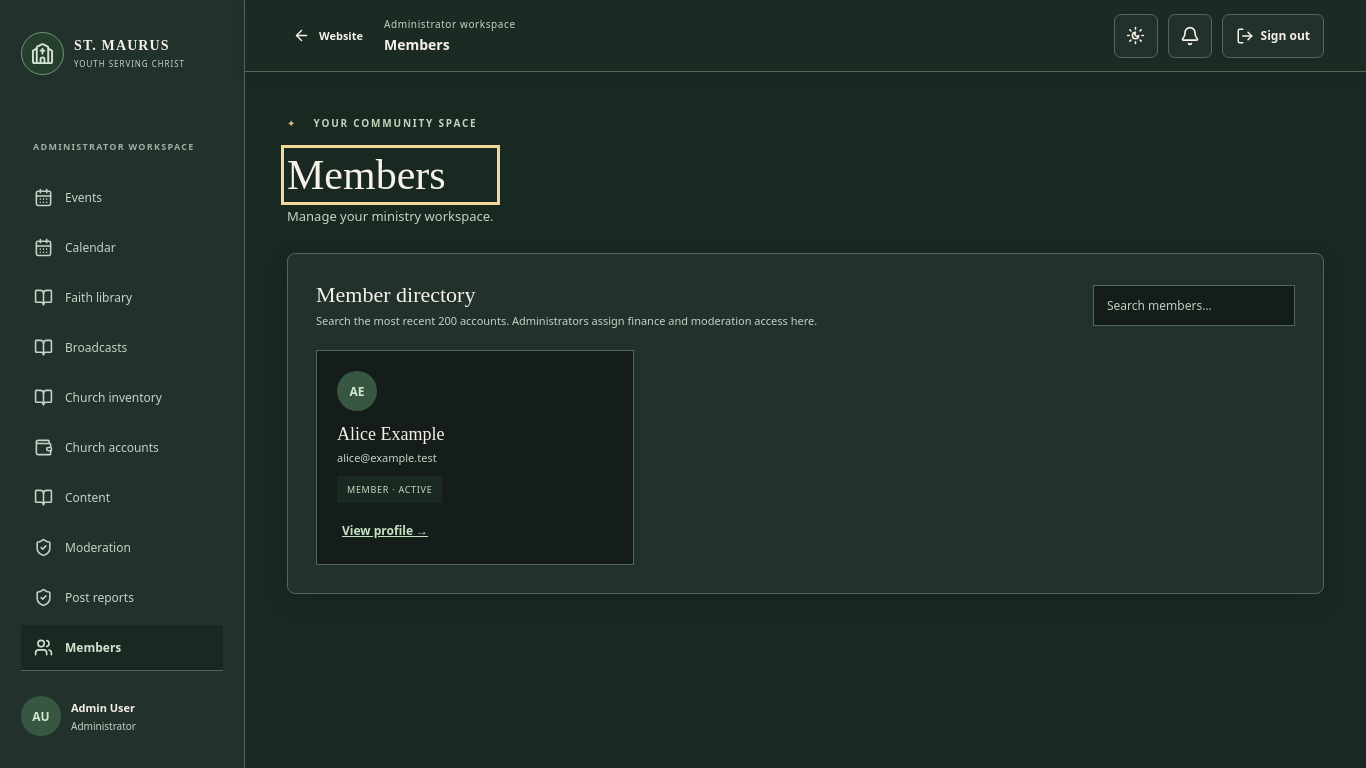
Test: role-aware dashboard navigation › lets an admin assign a restricted role with password confirmation
Earlier steps of the test are not shown.
(page scrolled)
Expected: the heading "Alice Example" is shown, [337,424,444,444]
Click the button "View profile →" at (385, 530), box [337,517,433,544]
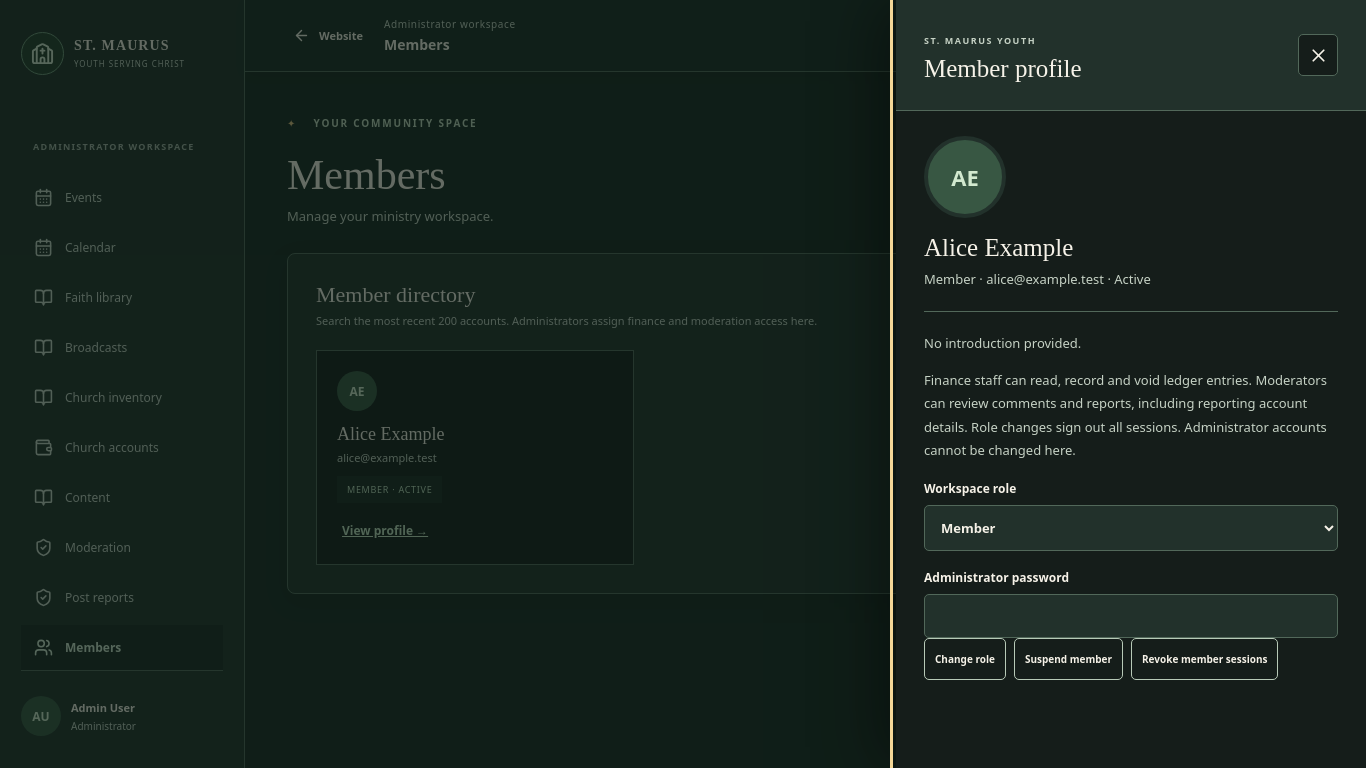
Now the dropdown labelled "Workspace role" is shown
Select "Finance staff" in the dropdown labelled "Workspace role" at (1131, 528), box [924,505,1338,551]
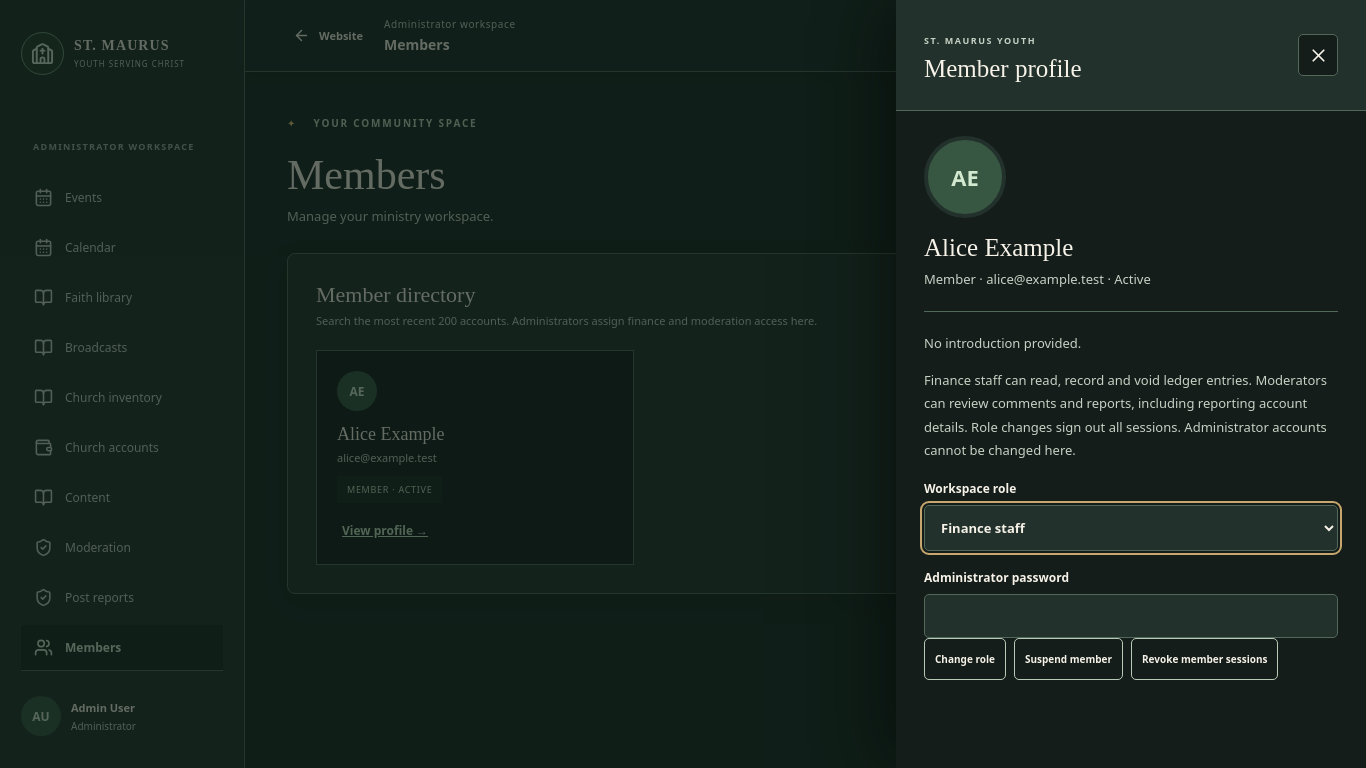
Type "admin-pass" into the password field labelled "Administrator password" at (1131, 616), box [924,594,1338,638]
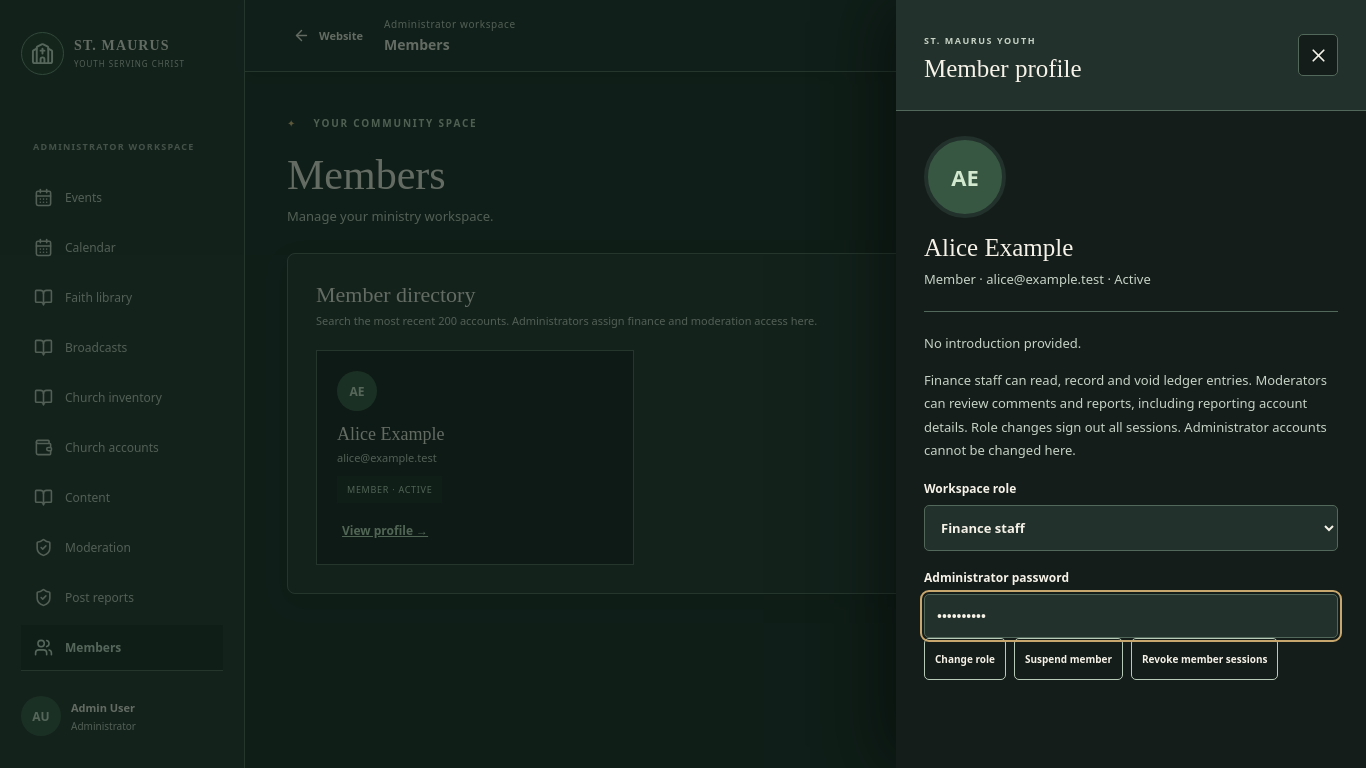
Click the button "Change role" at (965, 659), box [924,638,1006,680]
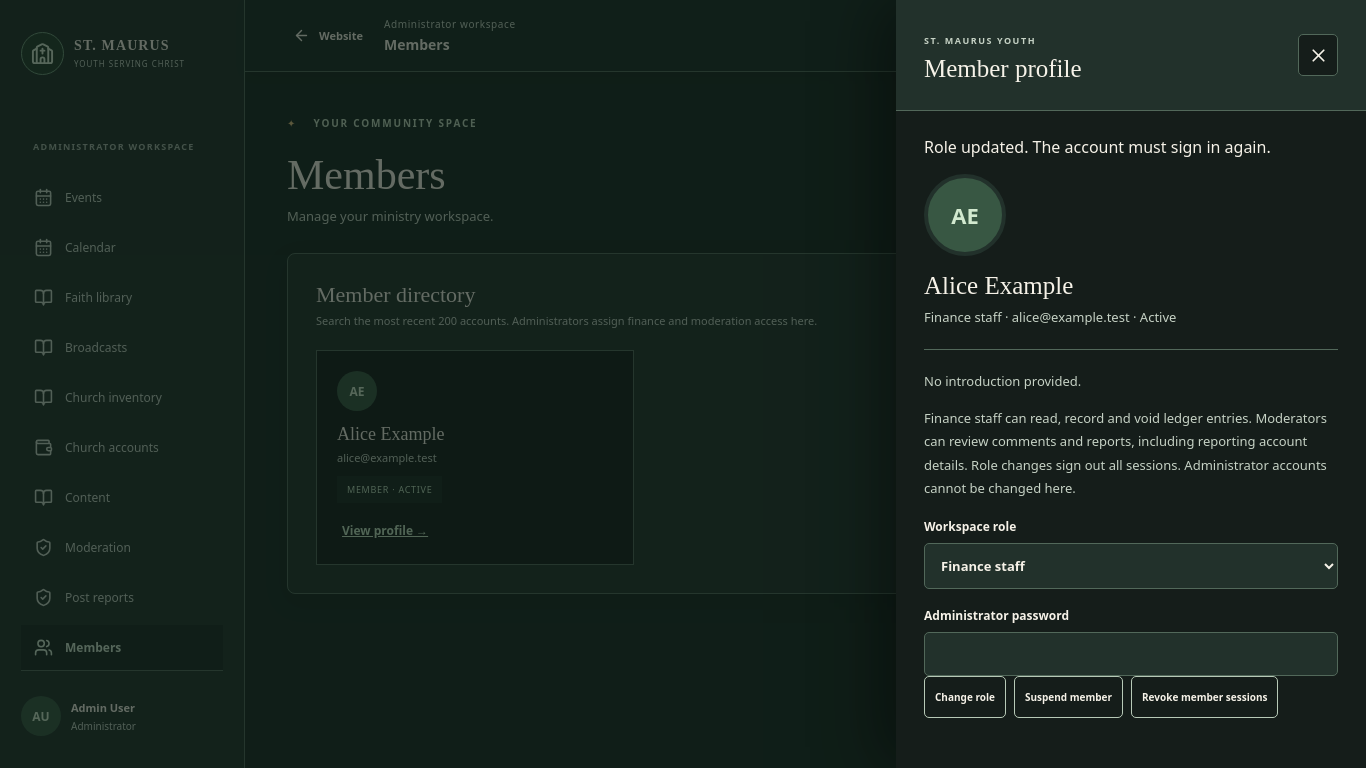
Now the text "Role updated. The account must sign in again." is shown, box [924,136,1271,158]
